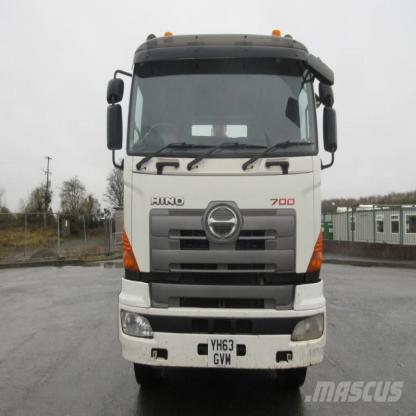dump_truck: (105, 13, 340, 385)
